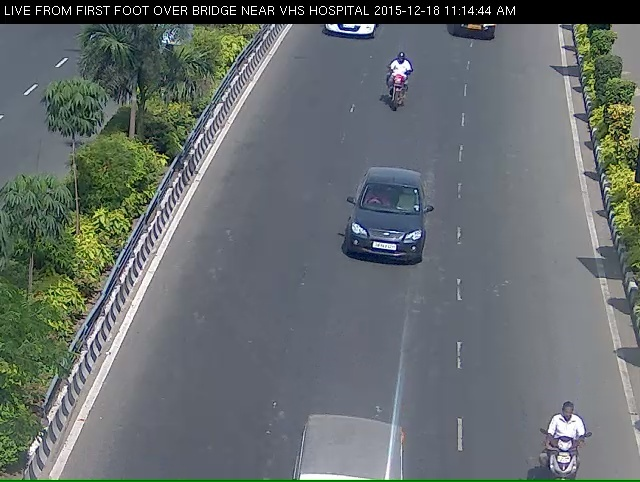Car: (339, 171, 430, 281)
Person: (538, 419, 601, 482), (382, 52, 416, 118)
